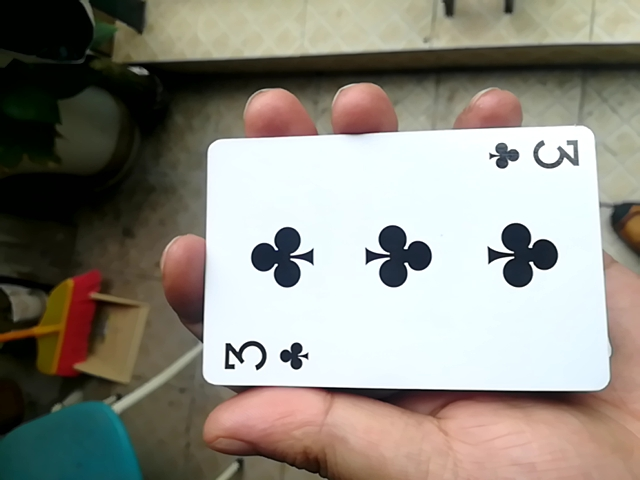mh 3: (181, 127, 616, 400)
